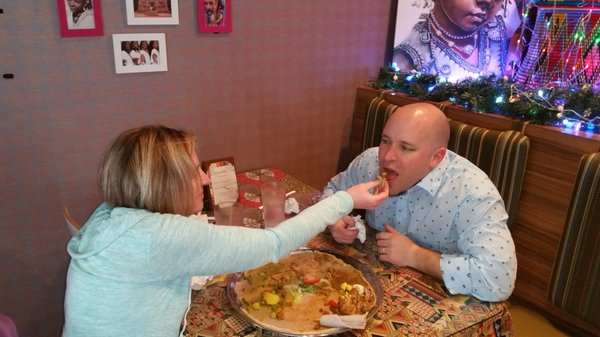pasta: (539, 146, 600, 331), (442, 106, 530, 232)
sandwich: (234, 248, 380, 331)
